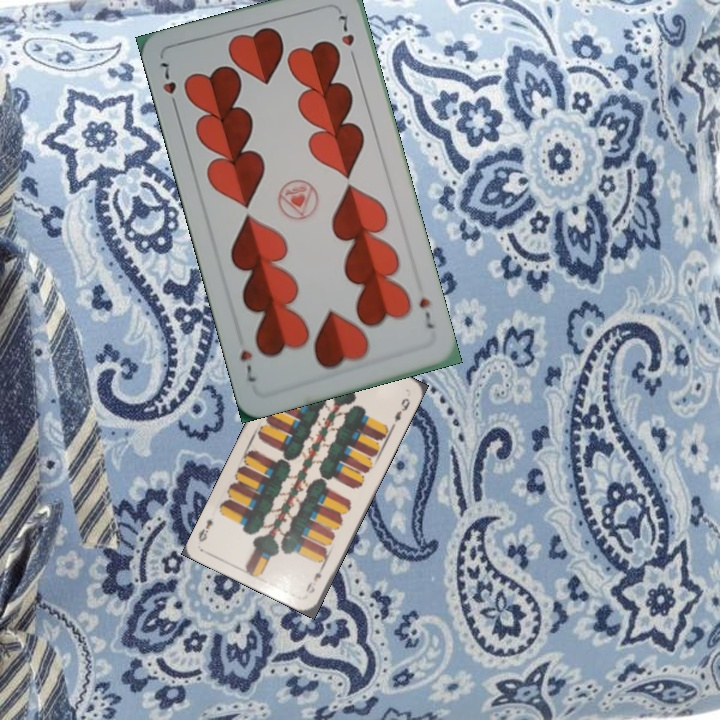E9: (302, 560, 327, 596)
H7: (155, 58, 180, 113), (414, 293, 436, 331)
